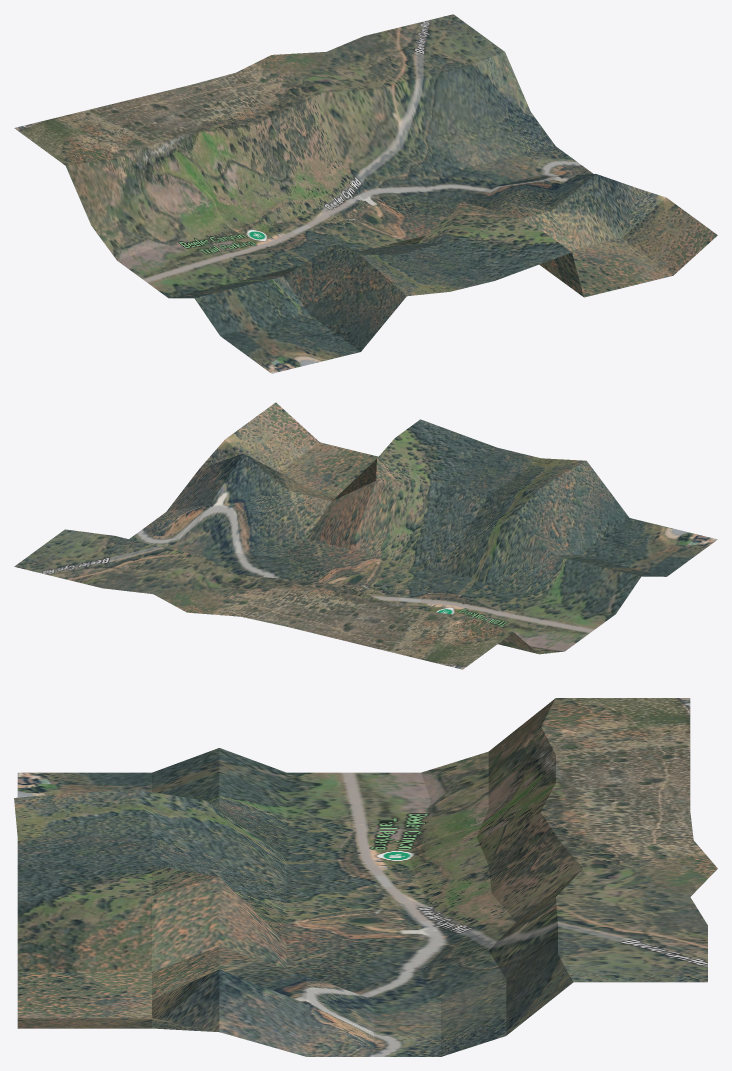
Rendered from beelercyn.glb.
The picture shows the model from 3 angles, top to bottom: view 1: azimuth 30°, elevation 25°; view 2: azimuth 150°, elevation 25°; view 3: azimuth 270°, elevation 25°; orthographic projection. The views are drawn at different scales.
Visible parts, largest first — view 1: beelercyn; view 2: beelercyn; view 3: beelercyn.
Boxes of the visible parts, x1=… form: beelercyn: x1=14, y1=14, x2=717, y2=373; beelercyn: x1=14, y1=402, x2=717, y2=669; beelercyn: x1=14, y1=698, x2=717, y2=1056.
Size of what is drawn, in the model's own units: 17.68 by 2.16 by 18.5.
1 material, 1 textured.
